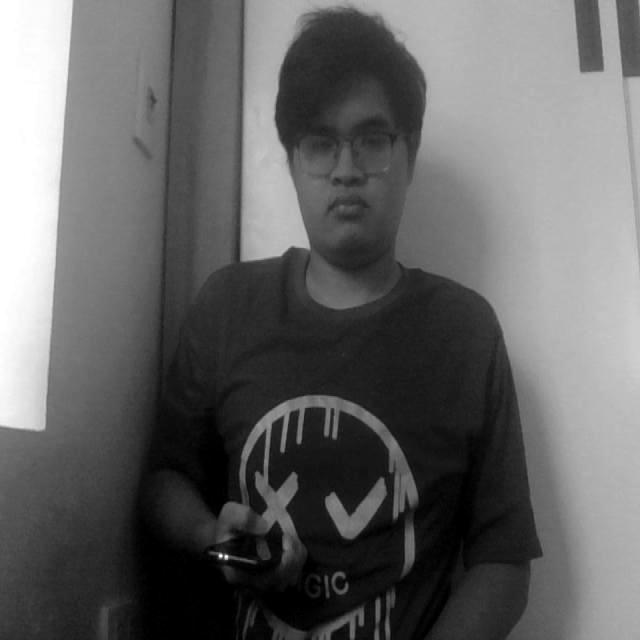phone: (200, 506, 285, 594)
